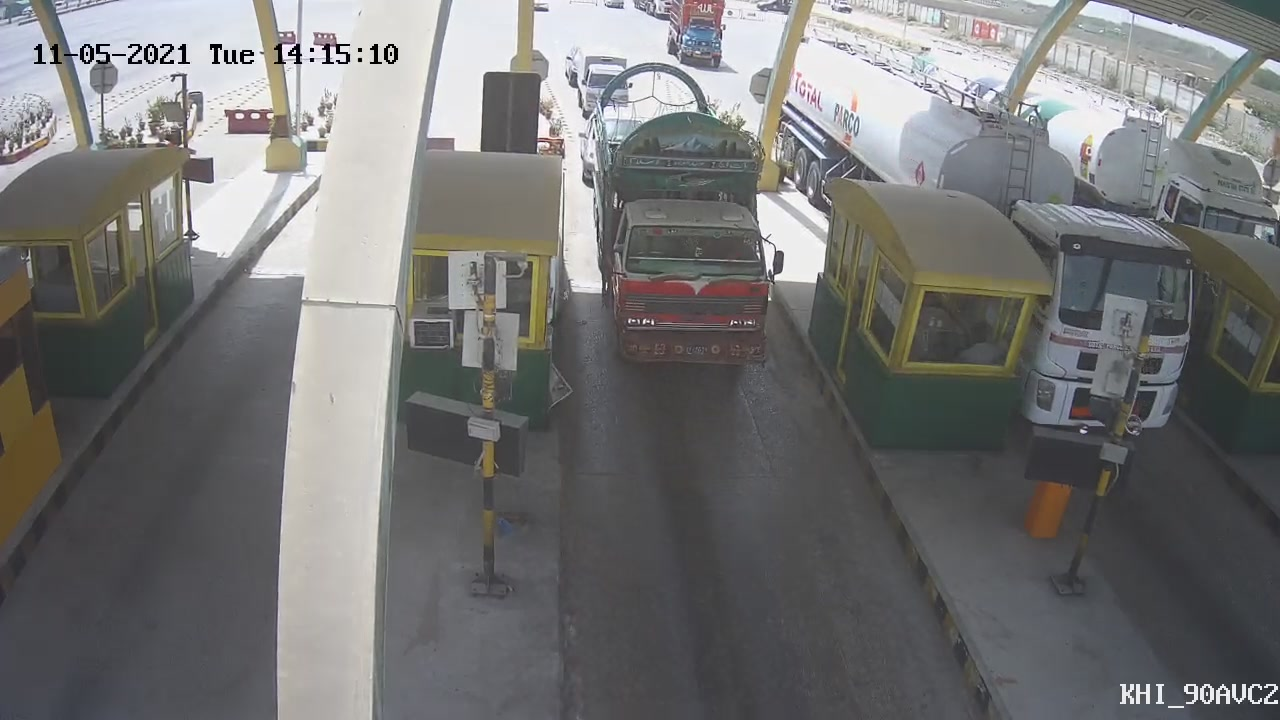F5: (586, 57, 787, 373)
